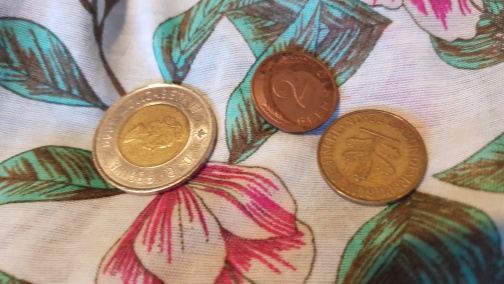coin: (91, 82, 218, 194), (316, 109, 429, 207), (250, 50, 340, 135)
